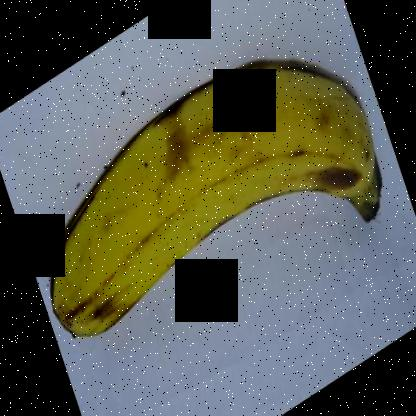ripe: (44, 50, 391, 345)
